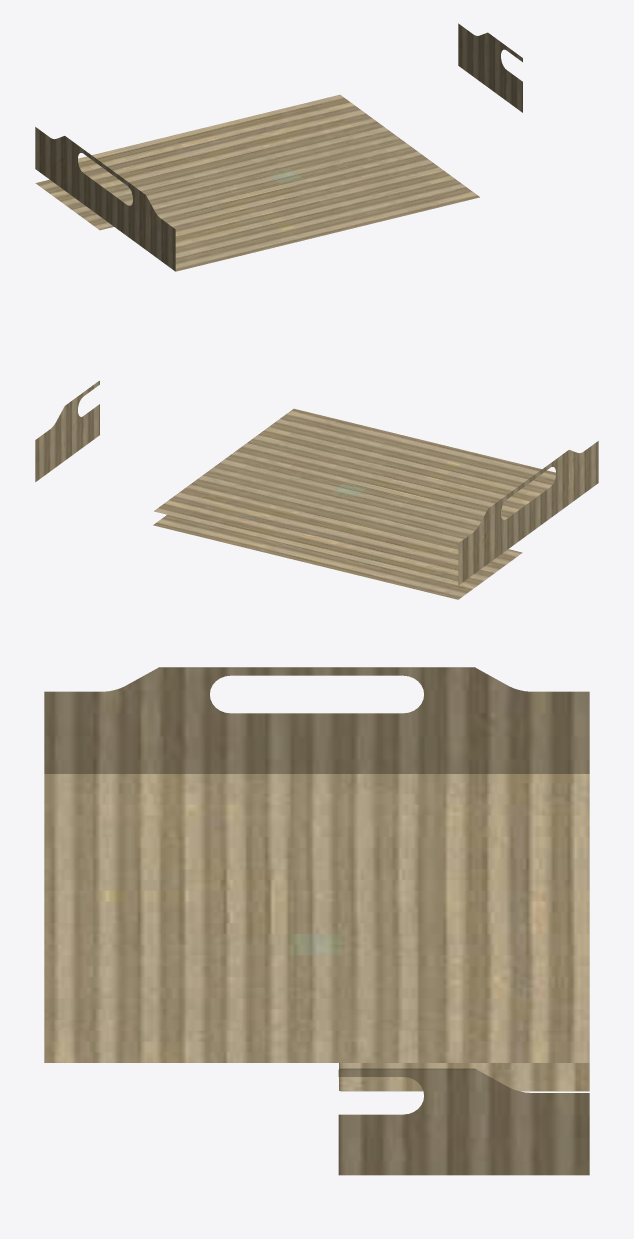
The model's file is wood_tray.obj.
3 renders of one model, top to bottom at view 1: azimuth 30°, elevation 25°; view 2: azimuth 150°, elevation 25°; view 3: azimuth 270°, elevation 25°, orthographic. The views are drawn at different scales.
Size of the model in its own units: 0.5 by 0.085 by 0.3.
